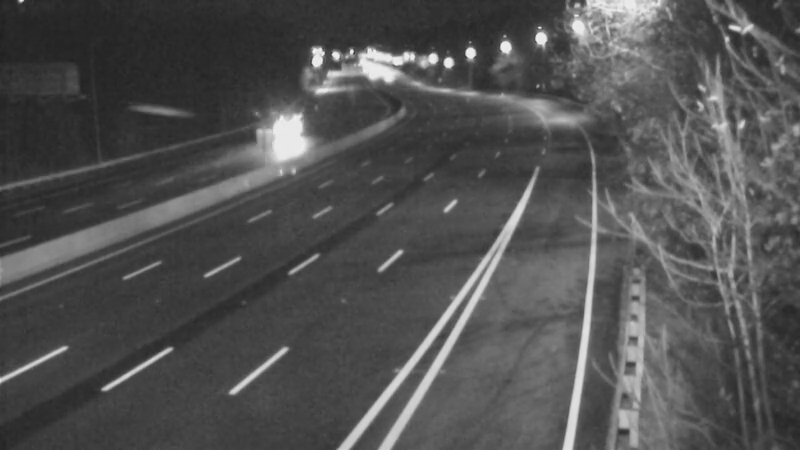vehicle: (255, 106, 305, 156)
